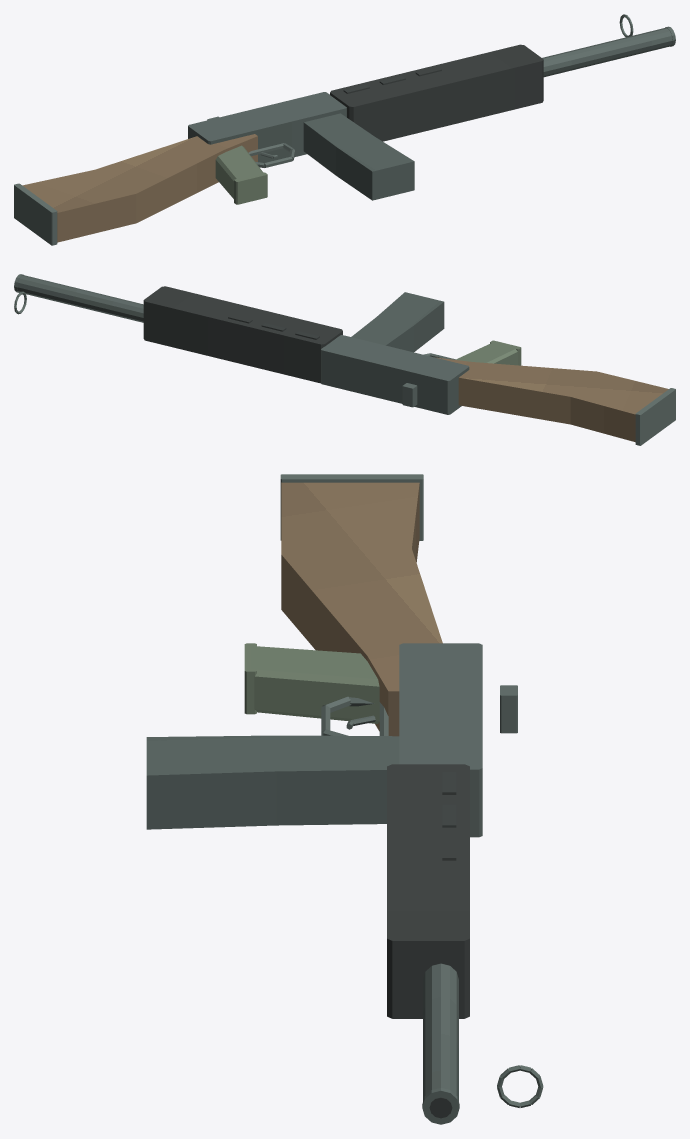
Rendered from weapon-g3.glb.
3 renders of one model, top to bottom at view 1: azimuth 30°, elevation 25°; view 2: azimuth 150°, elevation 25°; view 3: azimuth 270°, elevation 25°, orthographic. The views are drawn at different scales.
Parts seen in each view (by area): view 1: weapon-g3/independent-forehandguard, weapon-g3/shaped-solid-butt, weapon-g3/distinct-detachable-magazine, weapon-g3/full-depth-receiver, weapon-g3/round-barrel, weapon-g3/butt-end-plate, weapon-g3/distinct-eight-sided-pistol-grip, weapon-g3/distinct-eight-sided-pistol-grip-heel; view 2: weapon-g3/independent-forehandguard, weapon-g3/shaped-solid-butt, weapon-g3/full-depth-receiver, weapon-g3/distinct-detachable-magazine, weapon-g3/round-barrel, weapon-g3/butt-end-plate, weapon-g3/distinct-eight-sided-pistol-grip, weapon-g3/rear-sight; view 3: weapon-g3/shaped-solid-butt, weapon-g3/distinct-detachable-magazine, weapon-g3/independent-forehandguard, weapon-g3/full-depth-receiver, weapon-g3/distinct-eight-sided-pistol-grip, weapon-g3/round-barrel, weapon-g3/butt-end-plate.
Part boxes in pixels (left/top/right/bottom): weapon-g3/independent-forehandguard: left=330, top=44, right=543, bottom=141; weapon-g3/shaped-solid-butt: left=22, top=134, right=257, bottom=242; weapon-g3/distinct-detachable-magazine: left=303, top=113, right=414, bottom=200; weapon-g3/full-depth-receiver: left=188, top=92, right=346, bottom=162; weapon-g3/round-barrel: left=542, top=28, right=672, bottom=77; weapon-g3/butt-end-plate: left=14, top=183, right=57, bottom=245; weapon-g3/distinct-eight-sided-pistol-grip: left=215, top=145, right=263, bottom=198; weapon-g3/distinct-eight-sided-pistol-grip-heel: left=234, top=172, right=267, bottom=204; weapon-g3/independent-forehandguard: left=143, top=286, right=342, bottom=383; weapon-g3/shaped-solid-butt: left=436, top=357, right=668, bottom=442; weapon-g3/full-depth-receiver: left=321, top=335, right=469, bottom=414; weapon-g3/distinct-detachable-magazine: left=351, top=292, right=444, bottom=352; weapon-g3/round-barrel: left=17, top=275, right=143, bottom=322; weapon-g3/butt-end-plate: left=635, top=388, right=675, bottom=445; weapon-g3/distinct-eight-sided-pistol-grip: left=455, top=342, right=517, bottom=365; weapon-g3/rear-sight: left=402, top=383, right=417, bottom=407; weapon-g3/shaped-solid-butt: left=281, top=482, right=442, bottom=736; weapon-g3/distinct-detachable-magazine: left=146, top=735, right=399, bottom=829; weapon-g3/independent-forehandguard: left=387, top=764, right=469, bottom=1018; weapon-g3/full-depth-receiver: left=399, top=643, right=482, bottom=837; weapon-g3/distinct-eight-sided-pistol-grip: left=251, top=646, right=379, bottom=723; weapon-g3/round-barrel: left=423, top=963, right=458, bottom=1101; weapon-g3/butt-end-plate: left=280, top=474, right=423, bottom=540.
Bounding box in the file's own units: 1.03 × 0.066 × 0.2857.
Materials: 4 (4 with a texture image).
